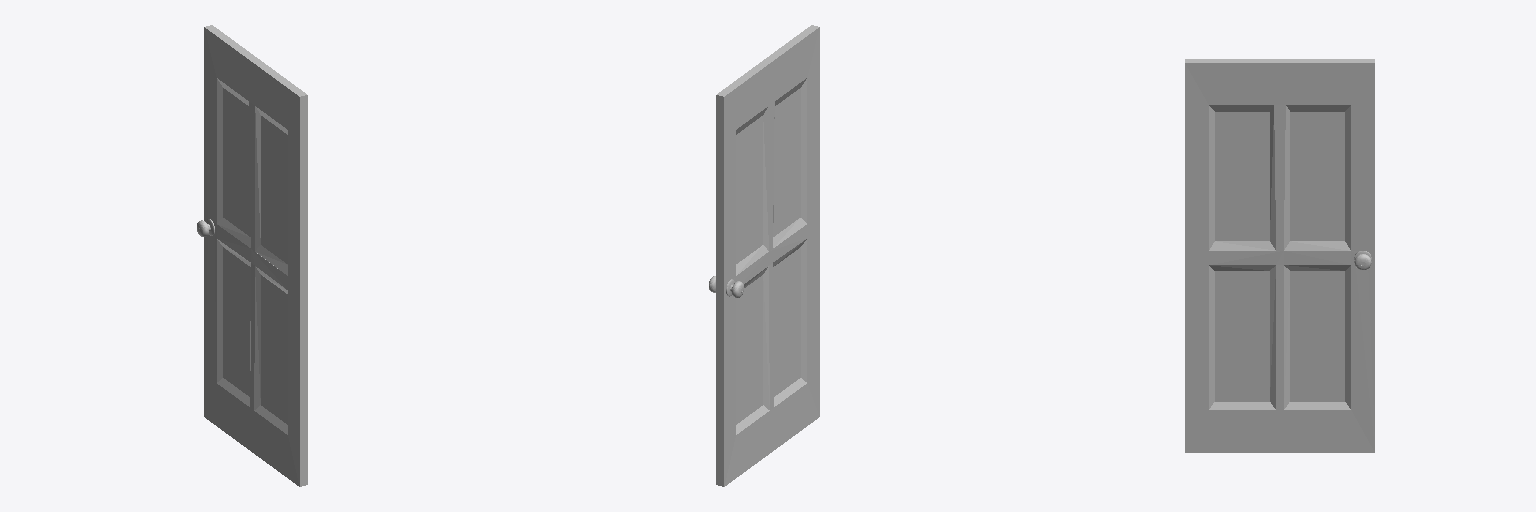
File: doorandknob.obj
The picture shows the model from 3 angles: view 1: azimuth 30°, elevation 25°; view 2: azimuth 150°, elevation 25°; view 3: azimuth 270°, elevation 25°; orthographic projection.
Visible parts, largest first — view 1: Cube; view 2: Cube; view 3: Cube.
Part boxes in pixels (left/top/right/bottom): Cube: left=204, top=25, right=307, bottom=486; Cube: left=716, top=25, right=819, bottom=486; Cube: left=1185, top=59, right=1374, bottom=452.
Size of the model in its own units: 0.1645 by 2 by 0.884.